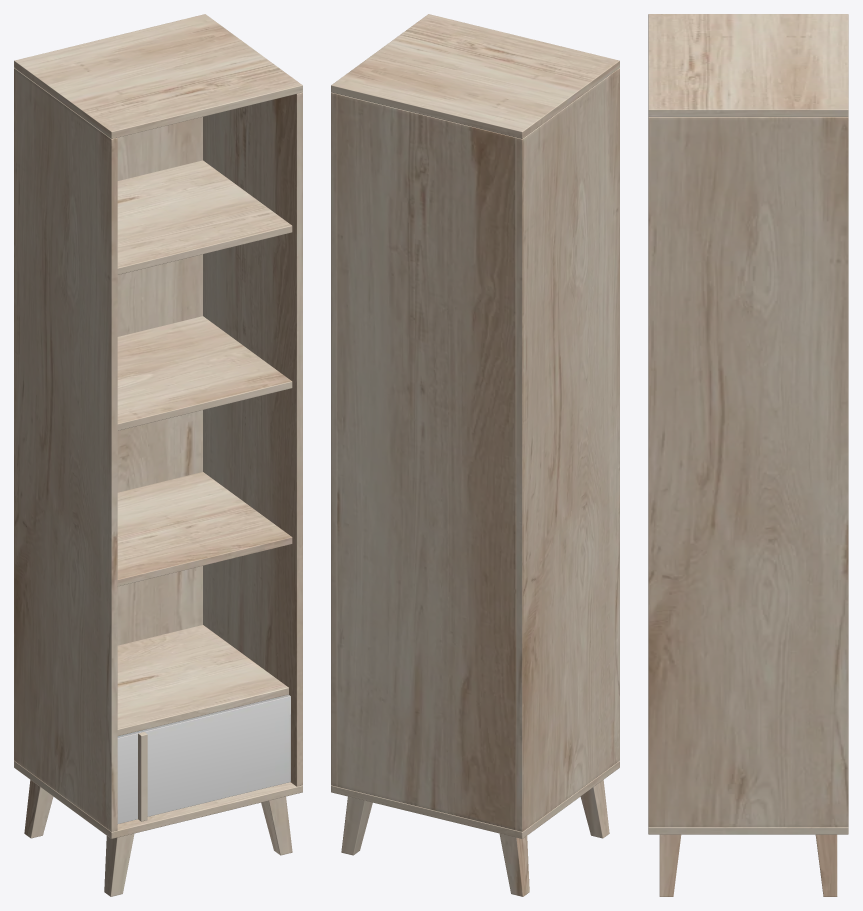
The model's file is abo-B07H8T8ZT1.glb.
The picture shows the model from 3 angles, left to right: view 1: azimuth 30°, elevation 25°; view 2: azimuth 150°, elevation 25°; view 3: azimuth 270°, elevation 25°; orthographic projection. The views are drawn at different scales.
Bounding box in the file's own units: 0.51 × 1.96 × 0.45.
Materials: 1 (1 with a texture image).
